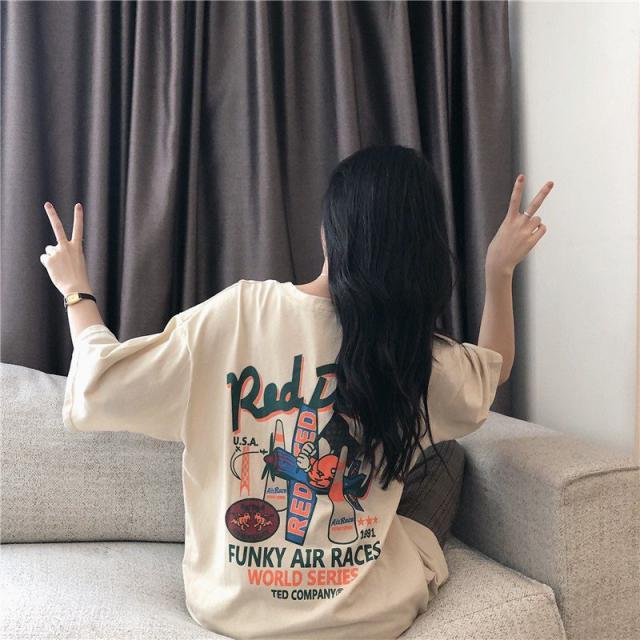Shirt: (66, 275, 505, 633)
